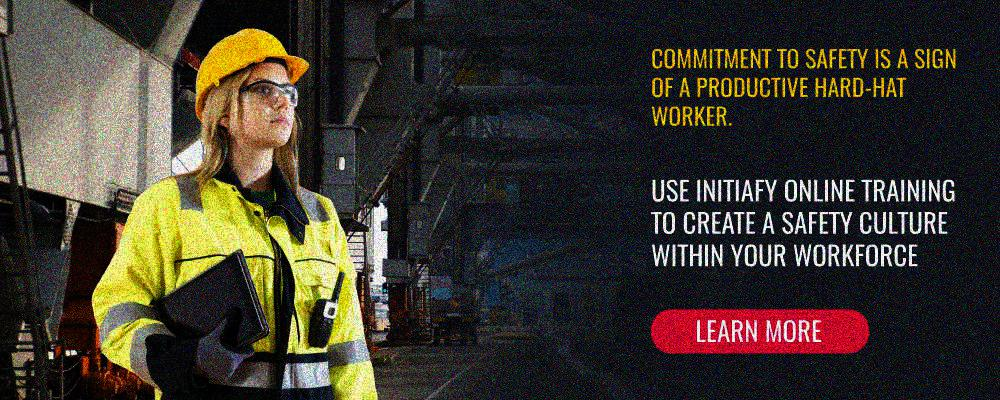helmet: (194, 26, 313, 148)
